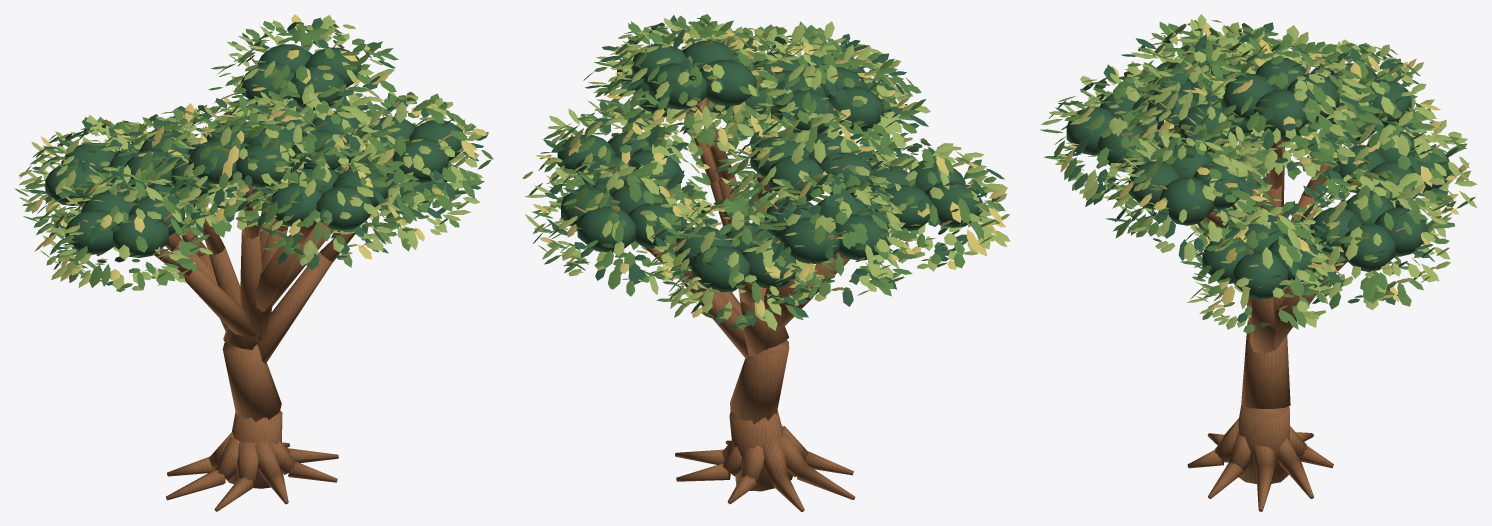
The model's file is tree_large_green.glb.
The picture shows the model from 3 angles, left to right: view 1: azimuth 30°, elevation 25°; view 2: azimuth 150°, elevation 25°; view 3: azimuth 270°, elevation 25°; orthographic projection. The views are drawn at different scales.
Visible parts, largest first — view 1: tree_large_green; view 2: tree_large_green; view 3: tree_large_green.
Boxes of the visible parts, x1,y1,x2,y2 form: tree_large_green: (14,14,493,511); tree_large_green: (522,14,1010,511); tree_large_green: (1040,14,1477,511).
Bounding box in the file's own units: 8.52 × 8.07 × 6.96.
Materials: 6 (2 with a texture image).
